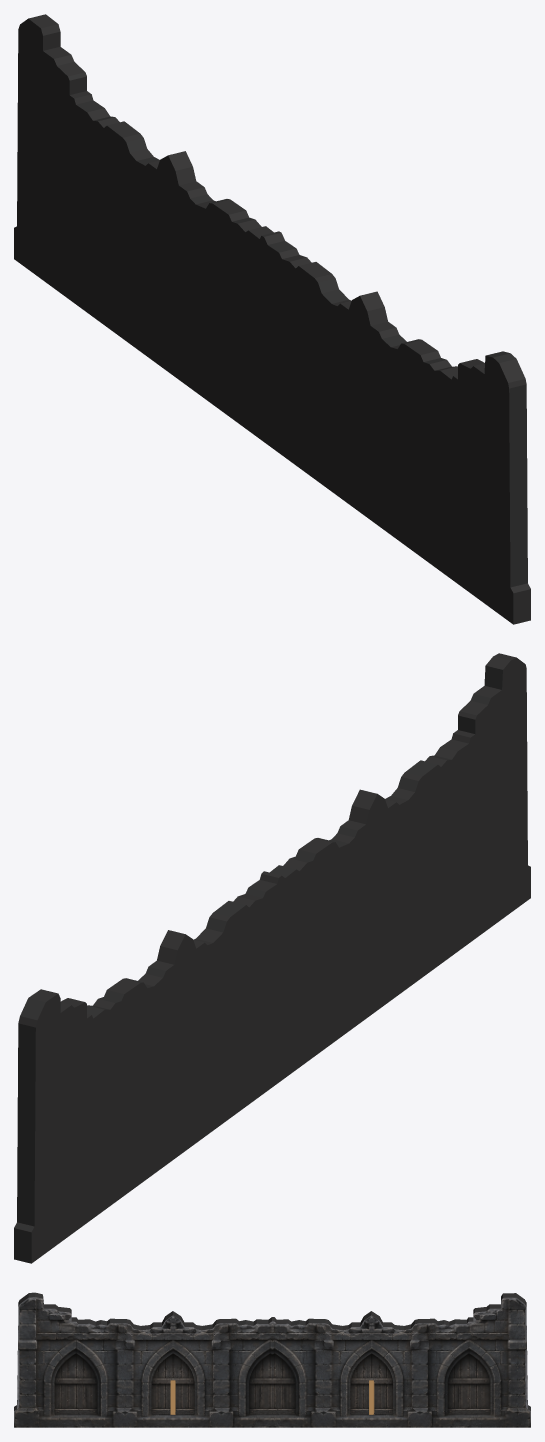
Rendered from SM_Decor_FacadeA.fbx.
3 renders of one model, top to bottom at view 1: azimuth 30°, elevation 25°; view 2: azimuth 150°, elevation 25°; view 3: azimuth 270°, elevation 25°, orthographic. The views are drawn at different scales.
Visible parts, largest first — view 1: SM_Decor_FacadeA; view 2: SM_Decor_FacadeA; view 3: SM_Decor_FacadeA.
Part boxes in pixels (box(x1,y1,x2,y2)): SM_Decor_FacadeA: box(14, 14, 530, 624); SM_Decor_FacadeA: box(14, 653, 530, 1263); SM_Decor_FacadeA: box(14, 1292, 530, 1427).
Size of the model in its own units: 8 by 395 by 110.
Materials: 2 (2 with a texture image).
